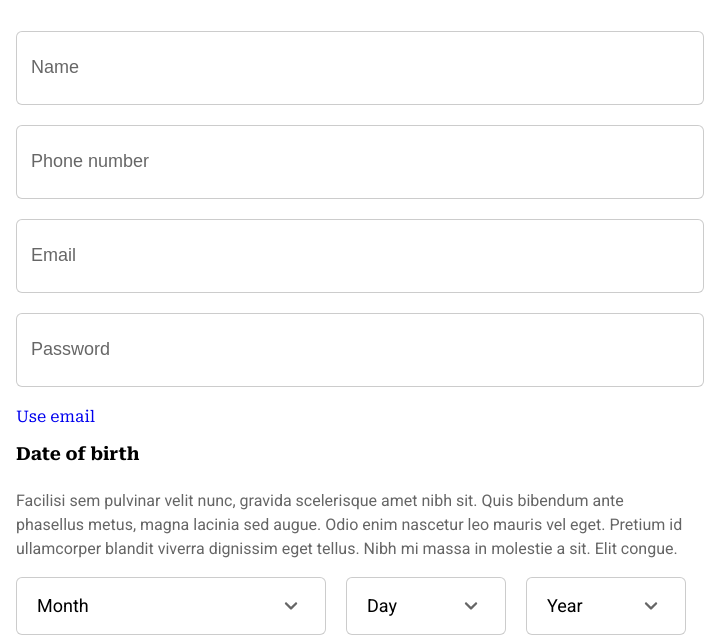
it: registration page › should change month
Click the text "Month" at (171, 606), box [16,577,326,635]
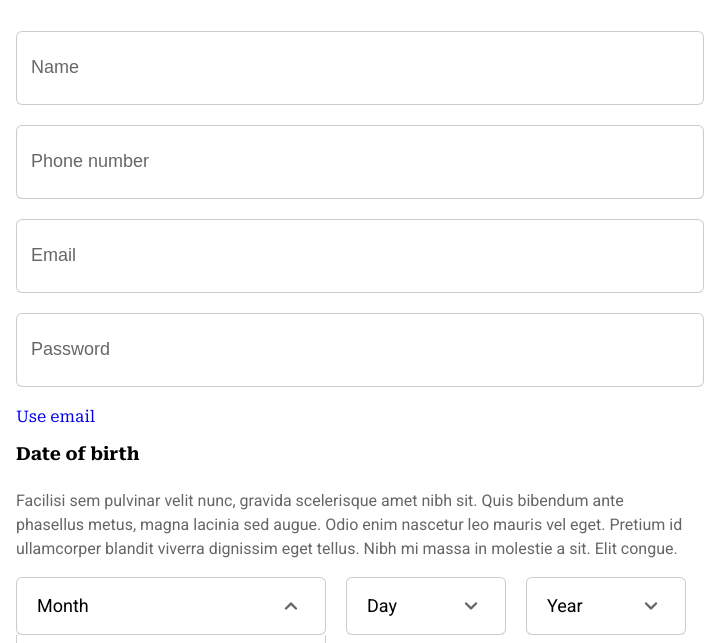
Scroll
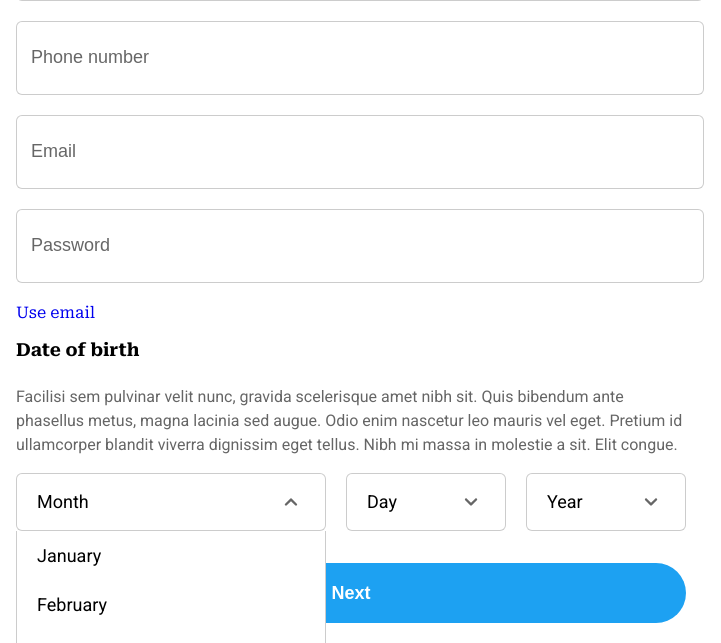
Click the list item "January" at (69, 556), box [37,545,101,566]
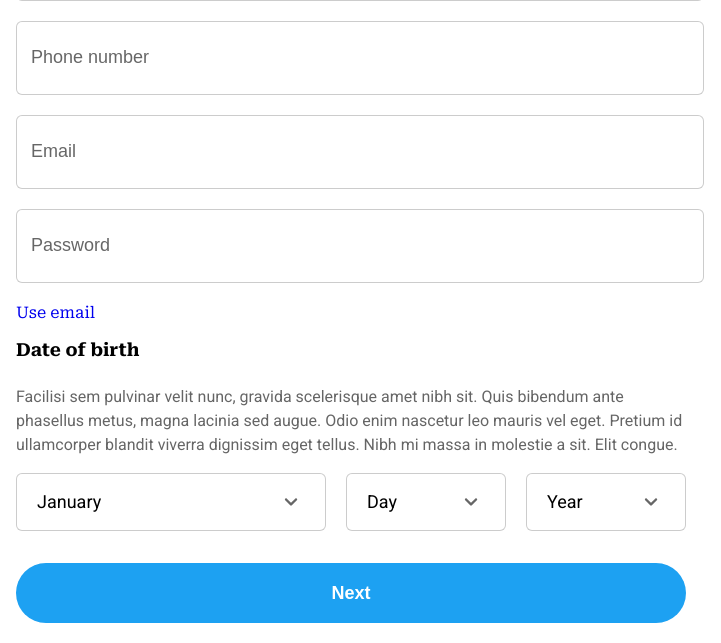
Result: the text "January" is shown at [16,472,326,530]
